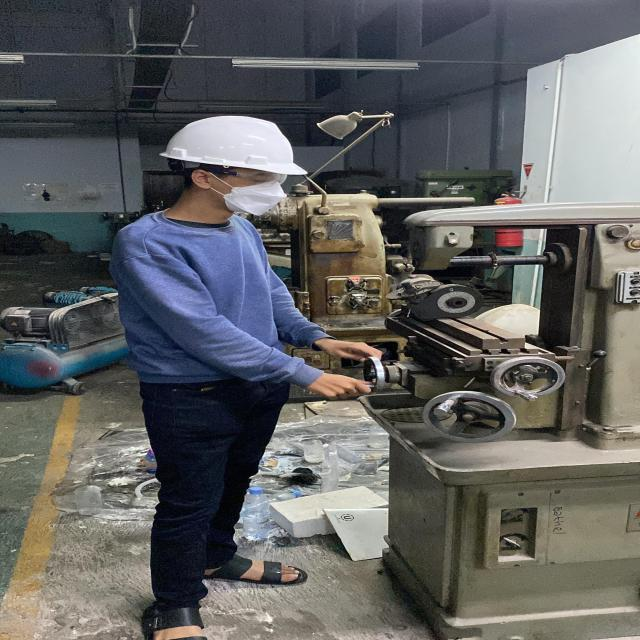glasses: (210, 167, 293, 188)
